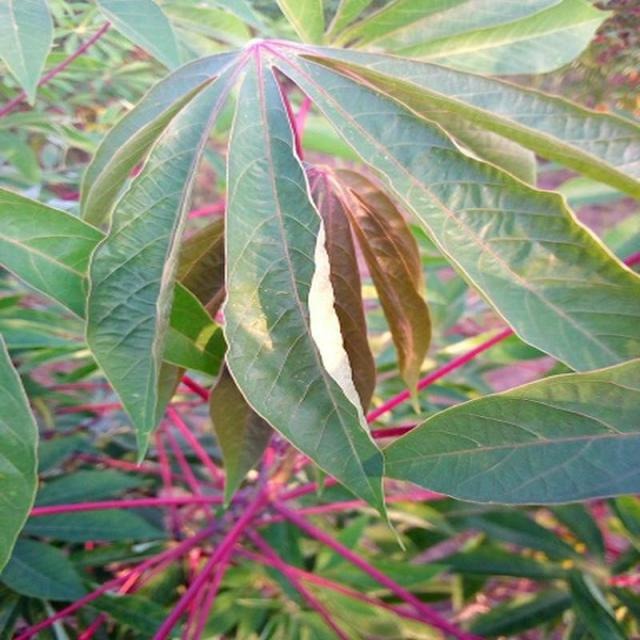cassava leaf: (2, 9, 638, 546), (220, 44, 402, 543)
